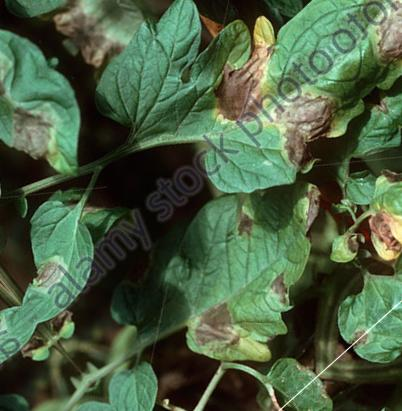Tomato leaf late blight: (72, 0, 386, 257), (92, 136, 379, 411), (0, 181, 138, 341), (299, 139, 402, 299), (0, 130, 46, 263)
